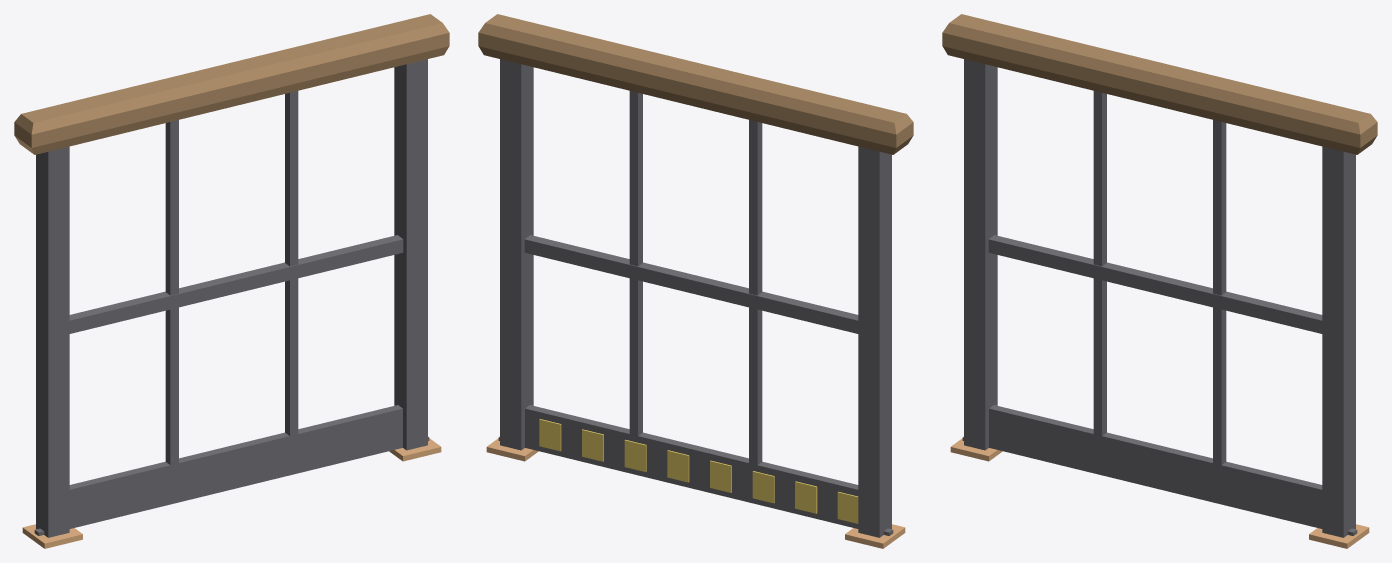
Rendered from railing.glb.
3 views of the same model, side by side, from view 1: azimuth 30°, elevation 25°; view 2: azimuth 150°, elevation 25°; view 3: azimuth 330°, elevation 25° (orthographic).
Parts seen in each view (by area): view 1: Railing; view 2: Railing; view 3: Railing.
Part boxes in pixels (x1,y1,x2,y2): Railing: (14,14,449,548); Railing: (478,14,913,548); Railing: (942,14,1377,548).
Bounding box in the file's own units: 0.98 × 0.95 × 0.09.
